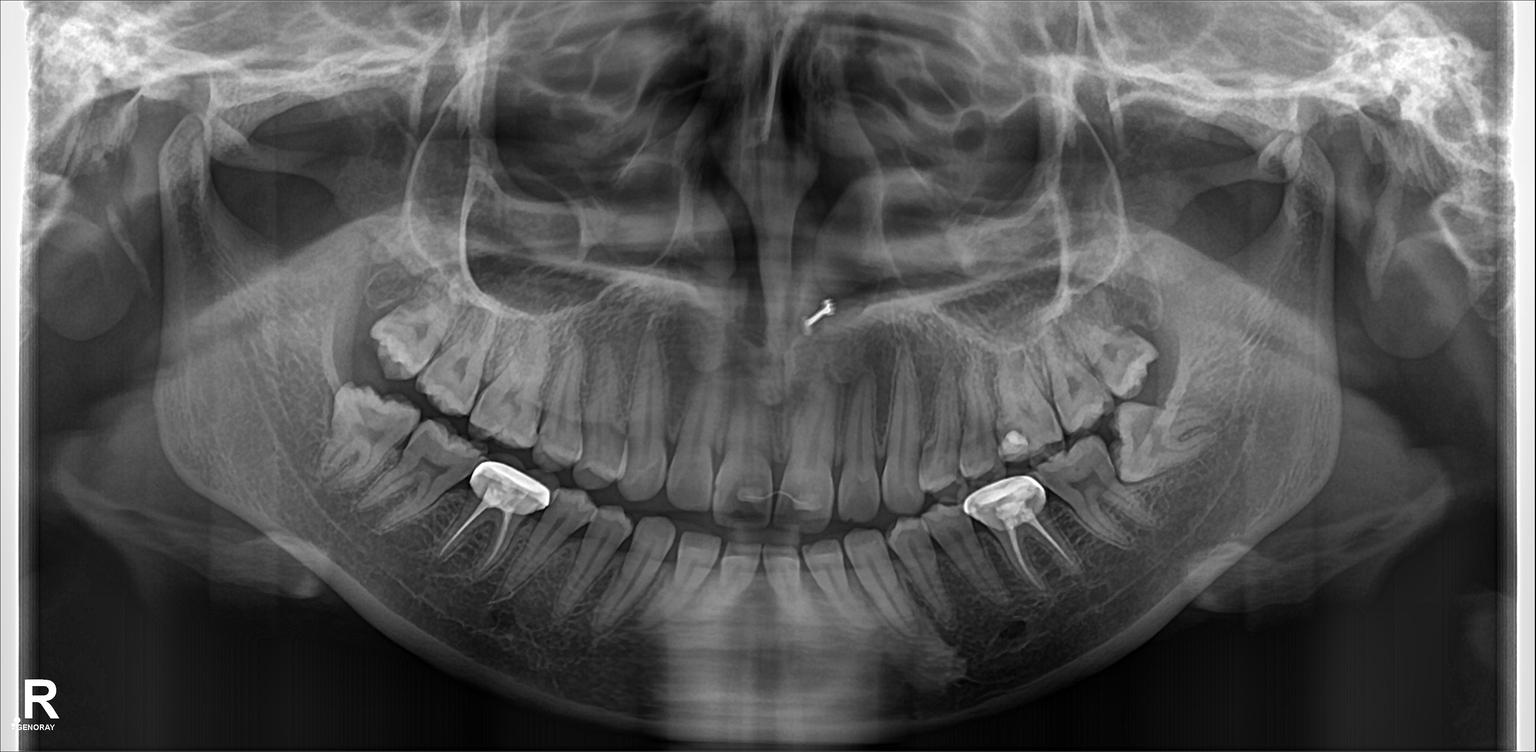Endodontically Treated Tooth: (983, 495, 1068, 597), (469, 463, 538, 572)
Impacted Third Molar: (1117, 411, 1223, 486)
